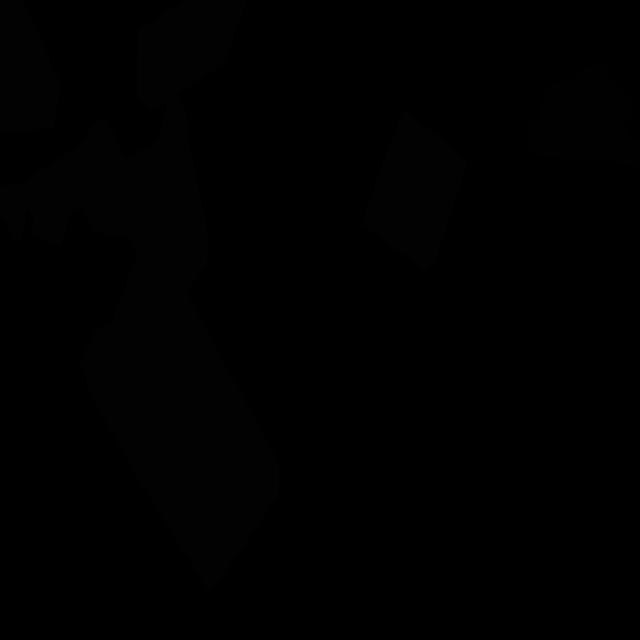cardboard: (0, 118, 279, 593), (361, 109, 468, 271), (124, 94, 208, 293), (137, 0, 247, 111), (0, 0, 60, 134)
rigid_plastic: (526, 59, 640, 167)
